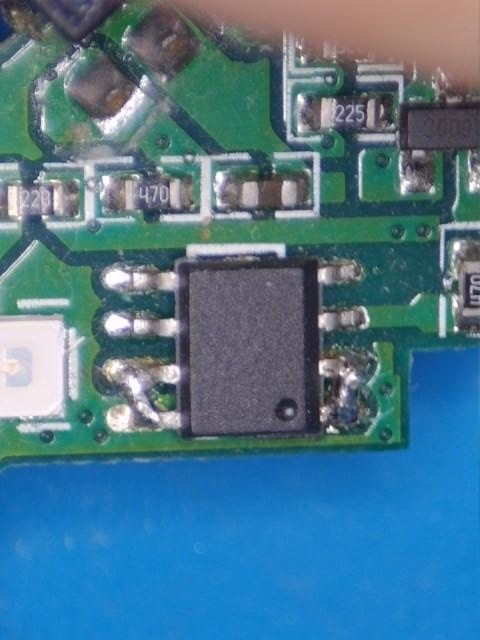pcb_defect: (107, 364, 181, 432), (318, 355, 368, 424)
